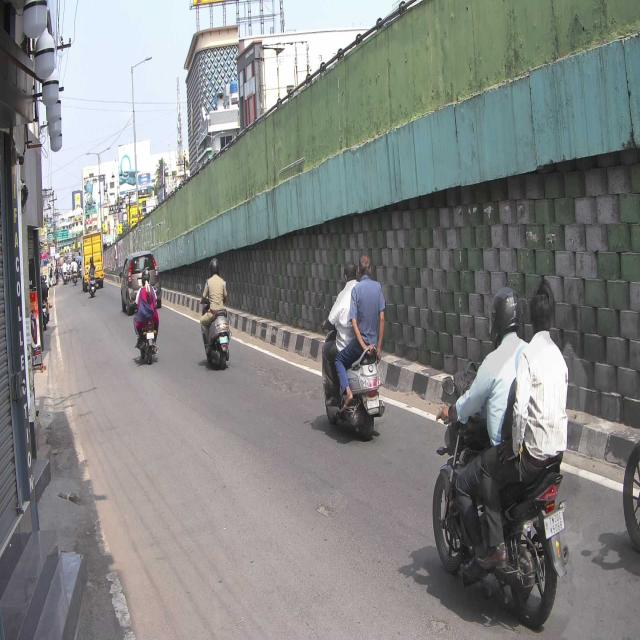double_rider: (432, 281, 572, 631), (318, 254, 389, 442)
